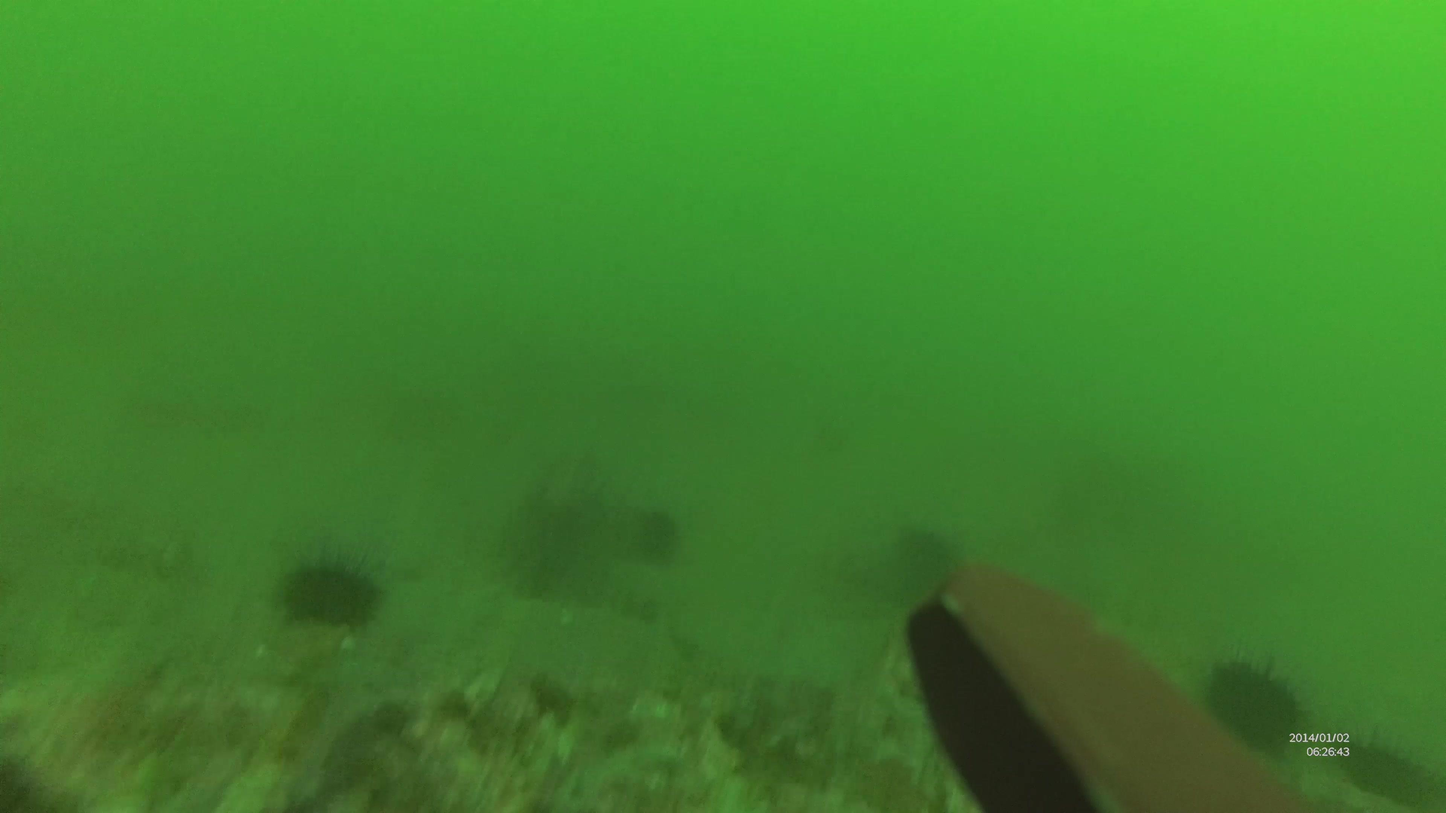starfish: (272, 546, 388, 629), (1211, 645, 1304, 748), (1339, 725, 1443, 813)
